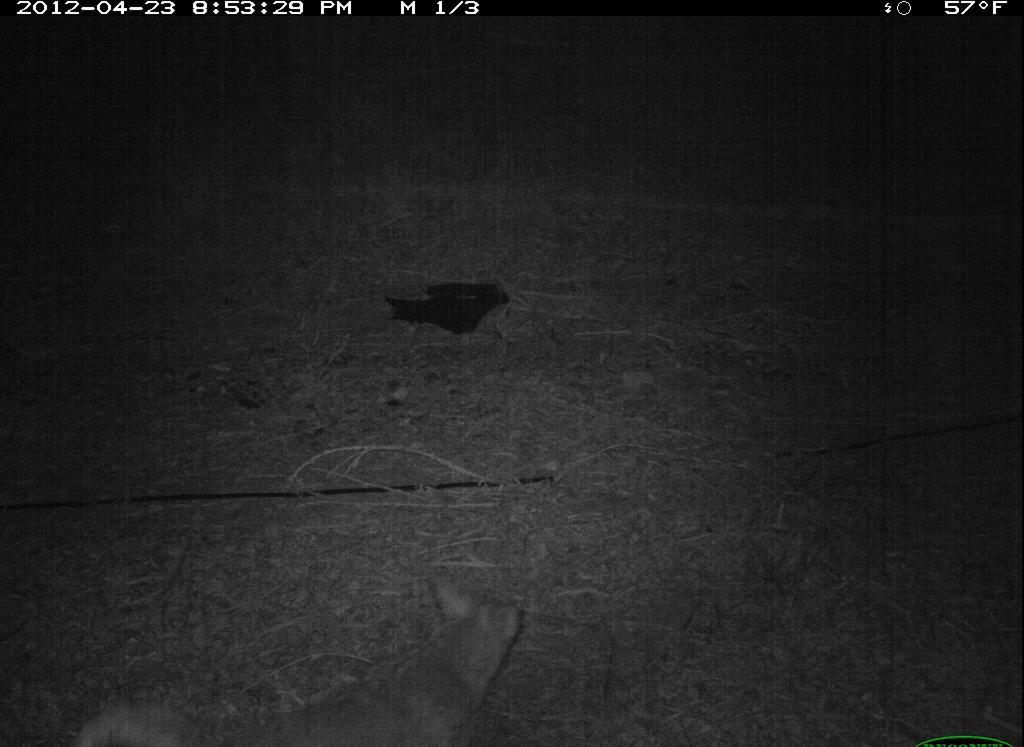coyote: (53, 571, 601, 747)
